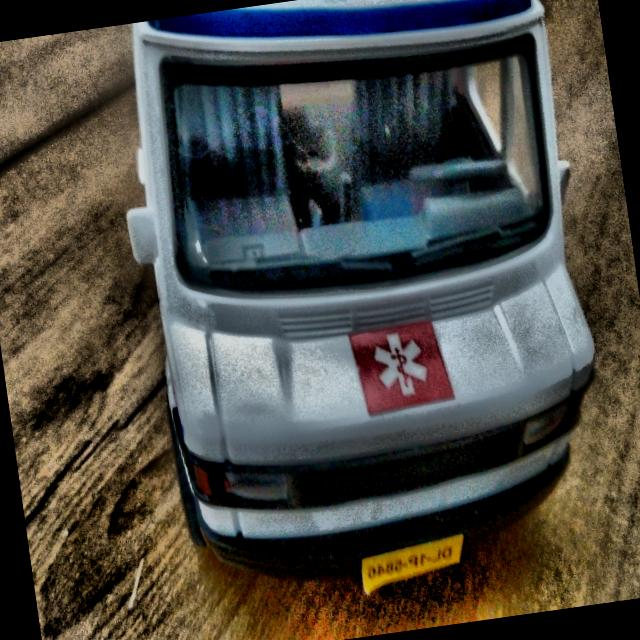Ambulance: (81, 0, 637, 640)
